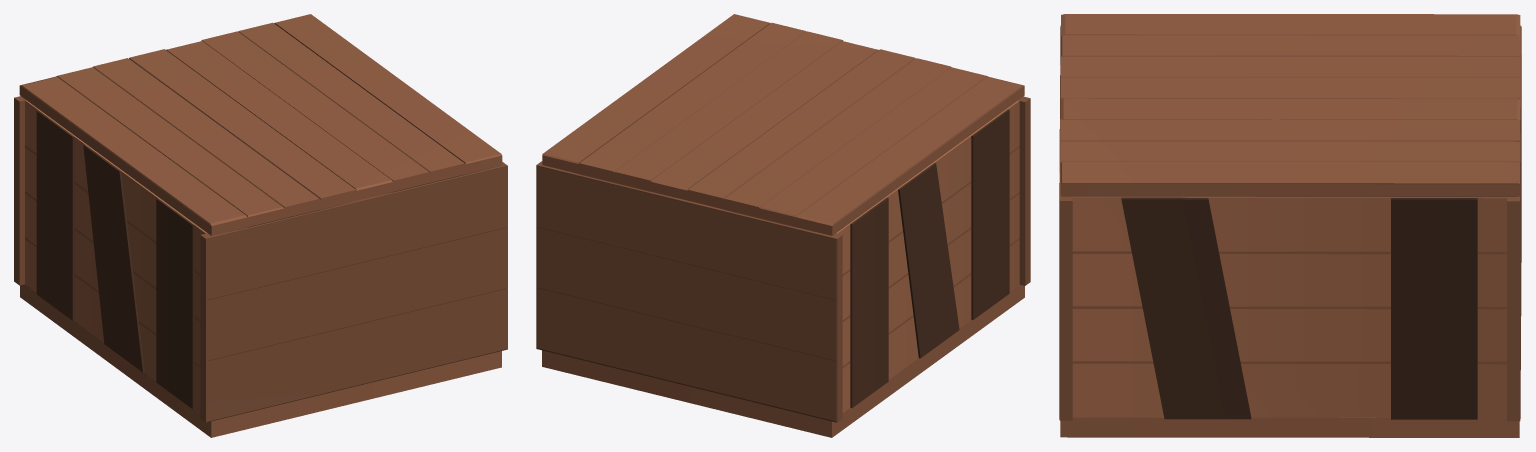
Rendered from Small Wide Crate w_Lid#2.fbx.
The picture shows the model from 3 angles, left to right: view 1: azimuth 30°, elevation 25°; view 2: azimuth 150°, elevation 25°; view 3: azimuth 270°, elevation 25°; orthographic projection. The views are drawn at different scales.
Visible parts, largest first — view 1: Small Wide Colored Crate w/Lid #2; view 2: Small Wide Colored Crate w/Lid #2; view 3: Small Wide Colored Crate w/Lid #2.
Boxes of the visible parts, x1=… form: Small Wide Colored Crate w/Lid #2: x1=14, y1=14, x2=507, y2=437; Small Wide Colored Crate w/Lid #2: x1=536, y1=14, x2=1030, y2=437; Small Wide Colored Crate w/Lid #2: x1=1059, y1=14, x2=1521, y2=437.
Size of the model in its own units: 131 by 215 by 194.
1 material, 1 textured.
